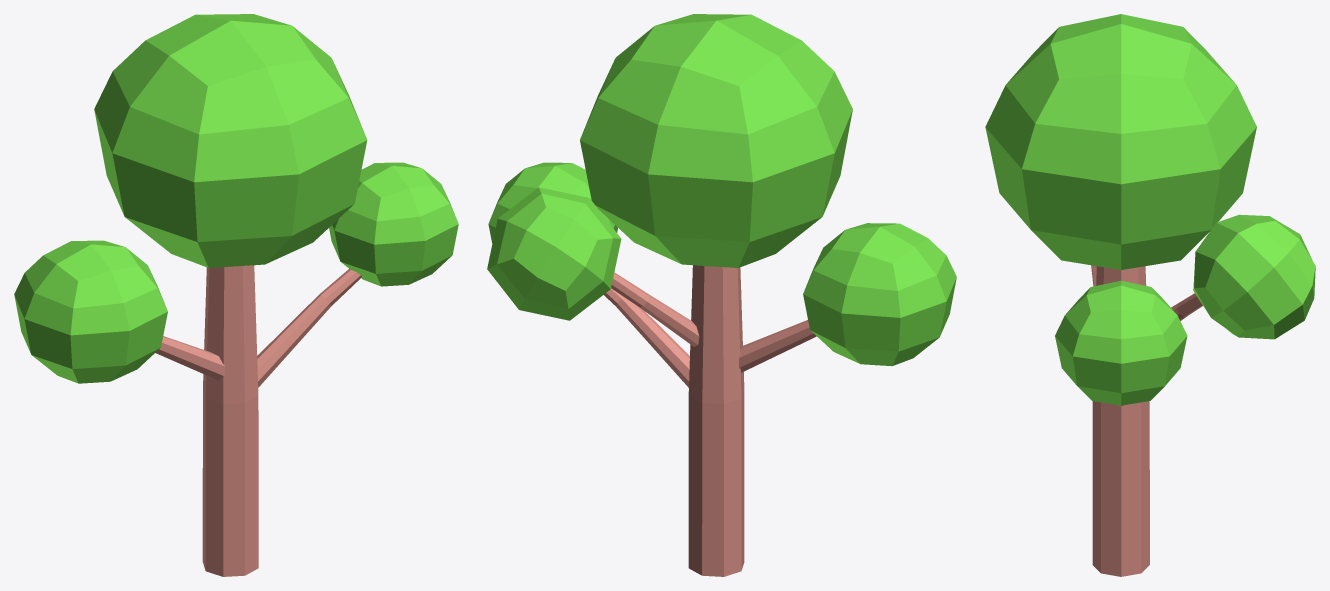
File: Tree5.fbx
3 views of the same model, side by side, from view 1: azimuth 30°, elevation 25°; view 2: azimuth 150°, elevation 25°; view 3: azimuth 270°, elevation 25° (orthographic).
Parts seen in each view (by area): view 1: Cylinder.003; view 2: Cylinder.003; view 3: Cylinder.003.
Part boxes in pixels (<box>): Cylinder.003: <box>14,14,458,576</box>; Cylinder.003: <box>487,14,956,576</box>; Cylinder.003: <box>985,14,1315,576</box>.
Bounding box in the file's own units: 7.17 × 8.53 × 4.72.
